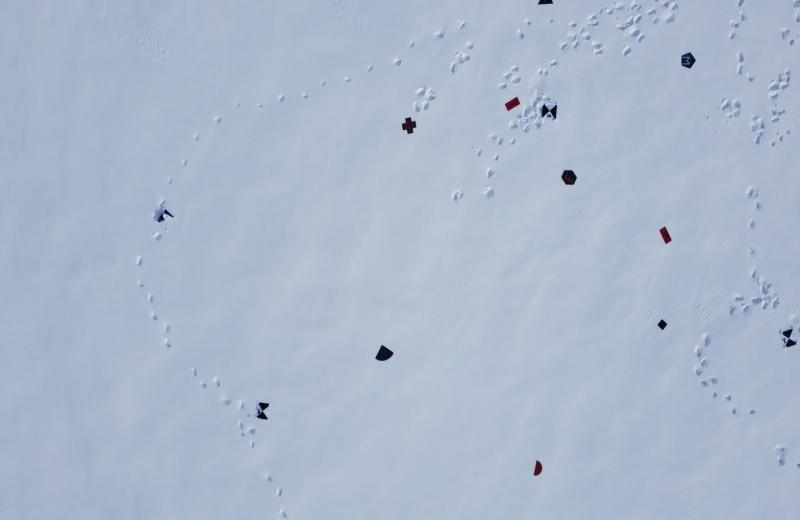Cross: (402, 115, 417, 134)
Hexagon: (561, 168, 577, 188)
Pentagon: (680, 52, 696, 72)
Quarter Circle: (374, 342, 395, 363)
Rectangle: (505, 97, 521, 111), (660, 226, 671, 245)
Semi Circle: (531, 460, 544, 476)
Square: (656, 318, 667, 332)
Triangle: (536, 0, 555, 5)
